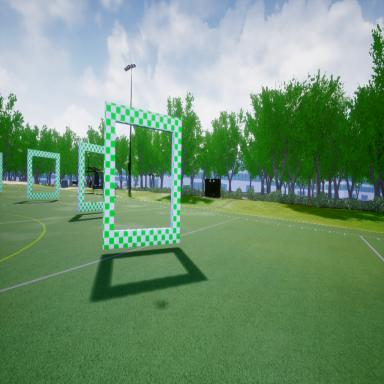gate: (102, 94, 185, 257), (25, 142, 63, 208)
